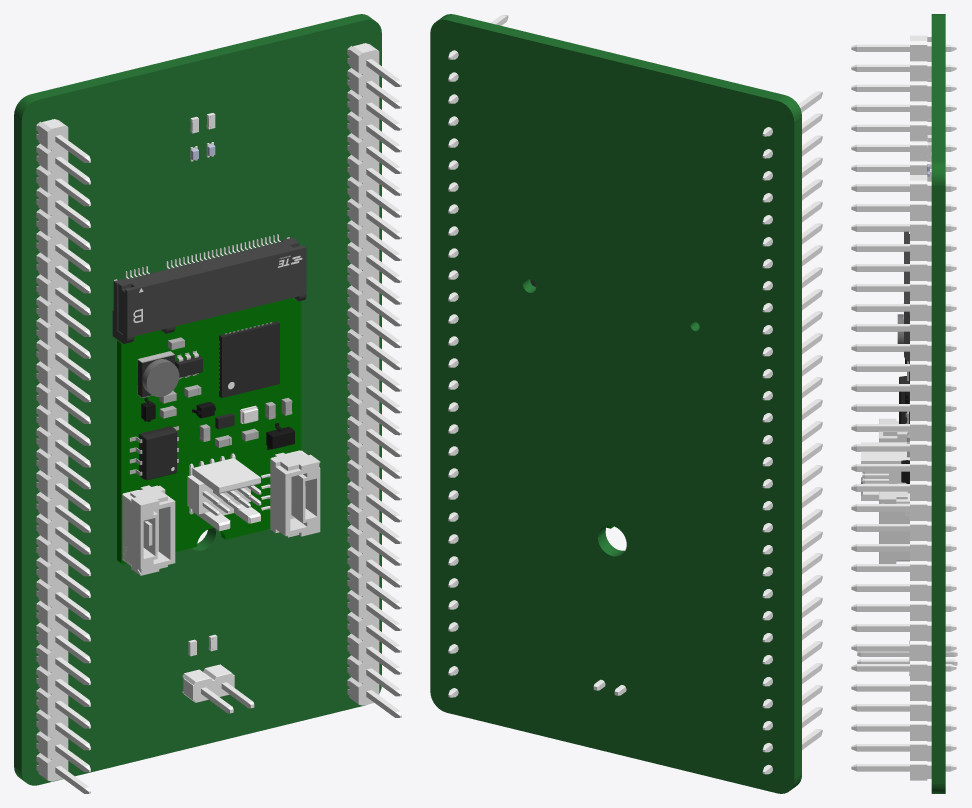
Rendered from MSXV_CB_Breakout_Rev_1.glb.
3 renders of one model, left to right at view 1: azimuth 30°, elevation 25°; view 2: azimuth 150°, elevation 25°; view 3: azimuth 270°, elevation 25°, orthographic. The views are drawn at different scales.
Parts seen in each view (by area): view 1: Open CASCADE STEP translator 7.5 2.1.1, Open CASCADE STEP translator 7.5 2.8.1.1_node, Open CASCADE STEP translator 7.5 2.8.1.1, Open CASCADE STEP translator 6.8 1.1.1, Package, body_, body__node, Open_CASCADE_STEP_translator_6.8_34.2.1, nodes[176], Open_CASCADE_STEP_translator_6.8_1.2.1, cylinder, nodes[11]; view 2: Open CASCADE STEP translator 7.5 2.1.1, Open CASCADE STEP translator 7.5 2.8.1.1_node, Open CASCADE STEP translator 7.5 2.8.1.1; view 3: Open CASCADE STEP translator 7.5 2.8.1.1, Open CASCADE STEP translator 7.5 2.1.1, Open CASCADE STEP translator 7.5 2.8.1.1_node, body__node, nodes[176], Package, body_, nodes[13], nodes[9], Open_CASCADE_STEP_translator_6.8_1.2.1.
Part boxes in pixels (left/top/right/bottom): Open CASCADE STEP translator 7.5 2.1.1: left=14, top=14, right=381, bottom=785; Open CASCADE STEP translator 7.5 2.8.1.1_node: left=36, top=119, right=90, bottom=793; Open CASCADE STEP translator 7.5 2.8.1.1: left=347, top=43, right=401, bottom=717; Open CASCADE STEP translator 6.8 1.1.1: left=117, top=298, right=301, bottom=564; Package: left=112, top=237, right=306, bottom=343; body_: left=122, top=485, right=175, bottom=575; body__node: left=270, top=451, right=320, bottom=537; Open_CASCADE_STEP_translator_6.8_34.2.1: left=219, top=321, right=279, bottom=397; nodes[176]: left=187, top=458, right=260, bottom=531; Open_CASCADE_STEP_translator_6.8_1.2.1: left=139, top=426, right=176, bottom=480; cylinder: left=142, top=359, right=179, bottom=397; nodes[11]: left=182, top=669, right=213, bottom=702; Open CASCADE STEP translator 7.5 2.1.1: left=430, top=14, right=801, bottom=793; Open CASCADE STEP translator 7.5 2.8.1.1_node: left=762, top=91, right=822, bottom=774; Open CASCADE STEP translator 7.5 2.8.1.1: left=448, top=14, right=508, bottom=697; Open CASCADE STEP translator 7.5 2.8.1.1: left=851, top=175, right=956, bottom=780; Open CASCADE STEP translator 7.5 2.1.1: left=931, top=14, right=945, bottom=793; Open CASCADE STEP translator 7.5 2.8.1.1_node: left=851, top=35, right=956, bottom=631; body__node: left=879, top=483, right=909, bottom=563; nodes[176]: left=861, top=442, right=909, bottom=500; Package: left=904, top=231, right=909, bottom=361; body_: left=879, top=418, right=908, bottom=442; nodes[13]: left=857, top=651, right=909, bottom=656; nodes[9]: left=857, top=659, right=909, bottom=663; Open_CASCADE_STEP_translator_6.8_1.2.1: left=899, top=376, right=908, bottom=423.
Size of the model in its own units: 44 by 80 by 12.25.
